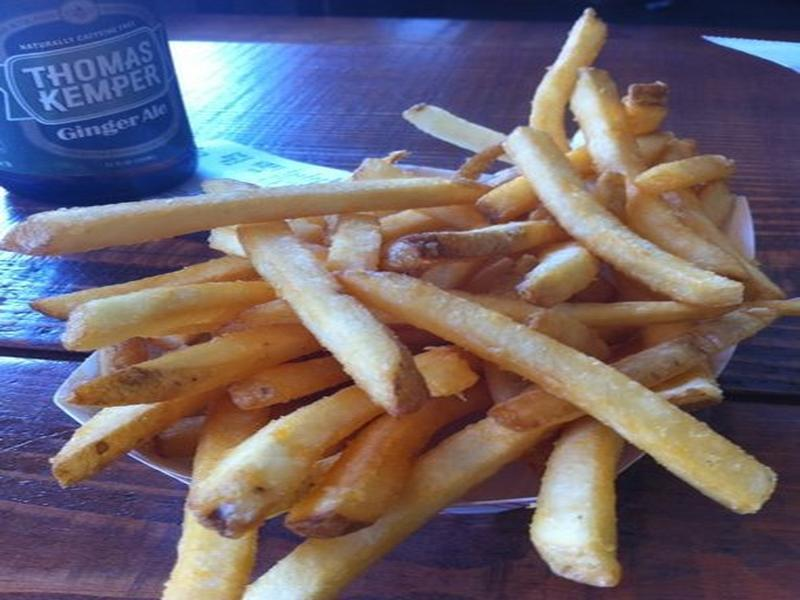french_fries: (81, 101, 775, 535)
